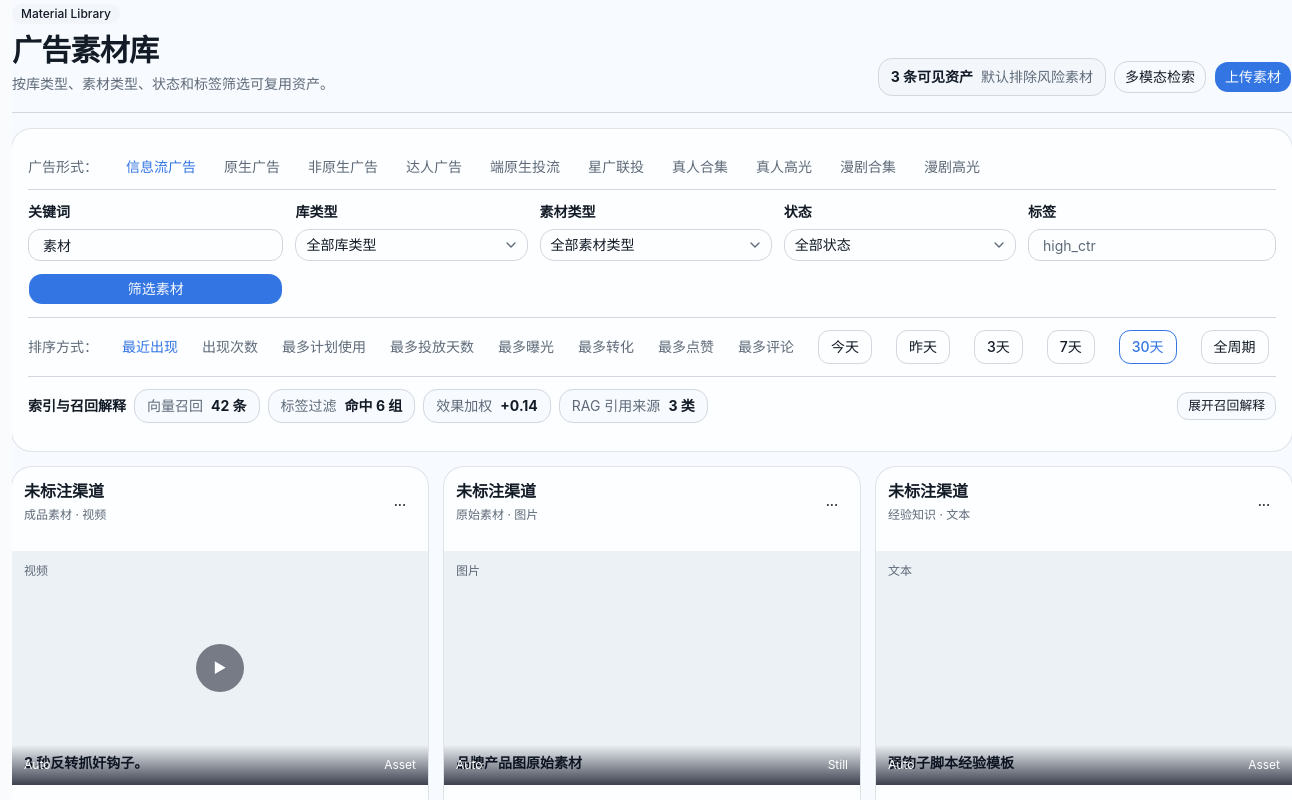
it: MaterialLibraryPage › 展示紧凑素材卡片网格，详情通过点击进入
This screenshot has width=1292, height=800.
expect the heading "索引与召回解释" is shown: met, box [28,396,126,416]
expect the text "向量召回" is shown: met, box [147,397,203,414]
Click the button "展开召回解释" at (1227, 406), box [1177,392,1276,420]
(page scrolled)
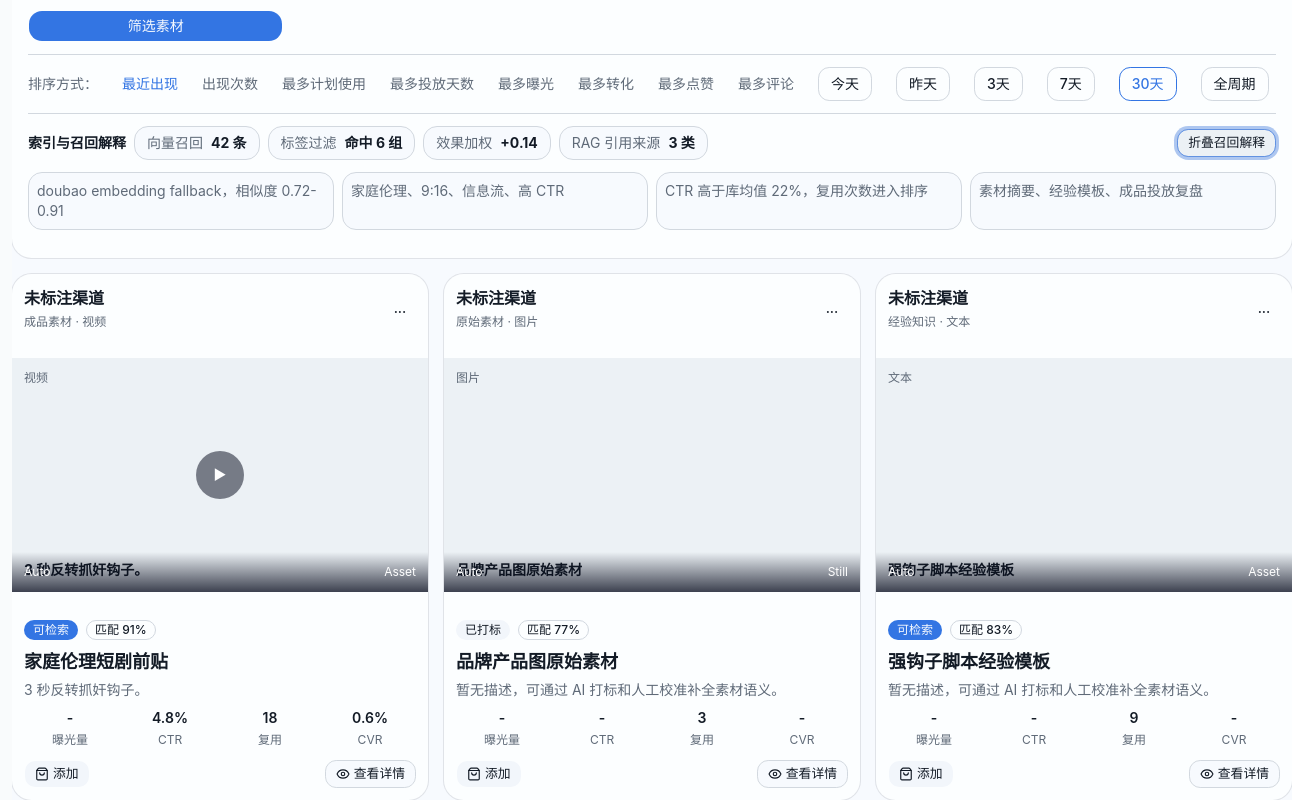
expect the button "折叠召回解释" is expanded: met, box [1177,129,1276,157]
Click the button with aria-label "添加 家庭伦理短剧前贴" at (57, 774), box [24,760,90,788]
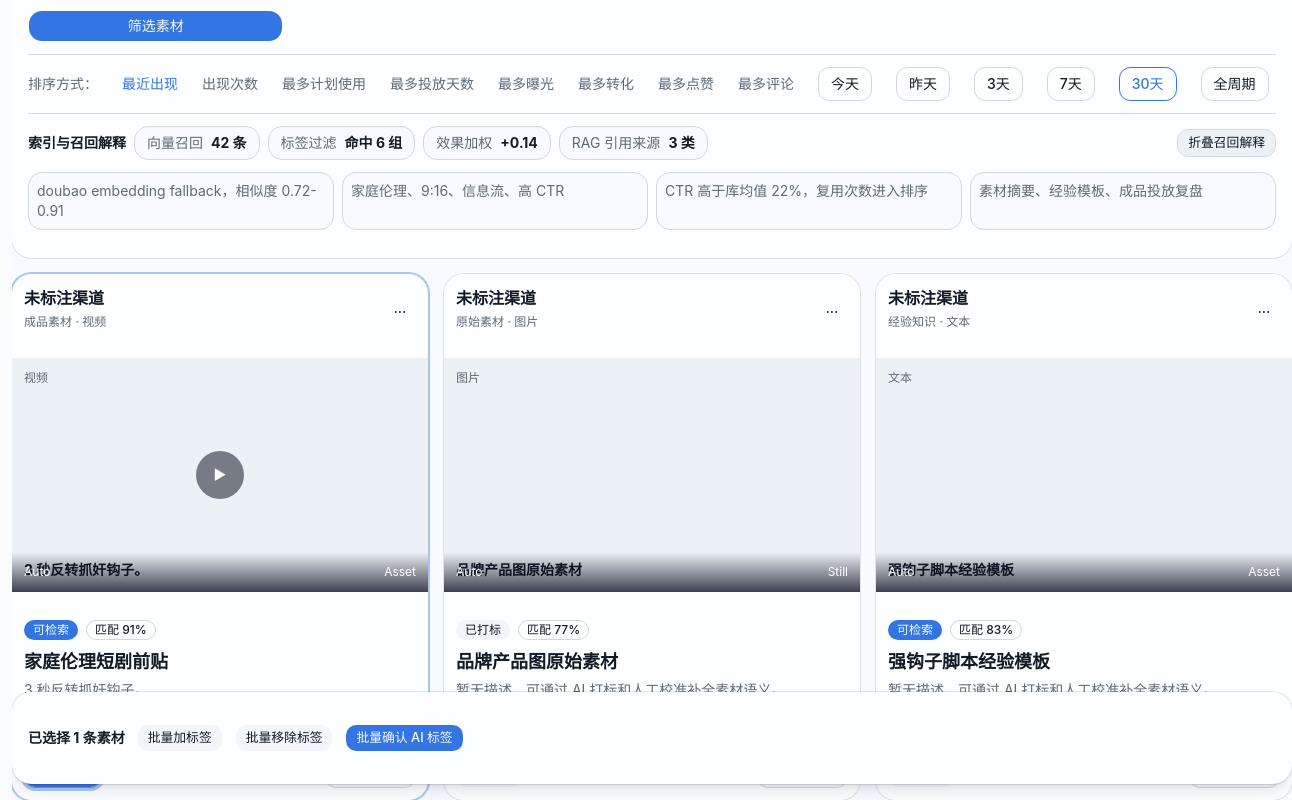
expect the element named "桌面固定批量操作条" is shown: met, box [12,692,1291,784]
expect the button "批量加标签" is shown: met, box [137,724,223,752]
expect the button "批量移除标签" is shown: met, box [235,724,334,752]
